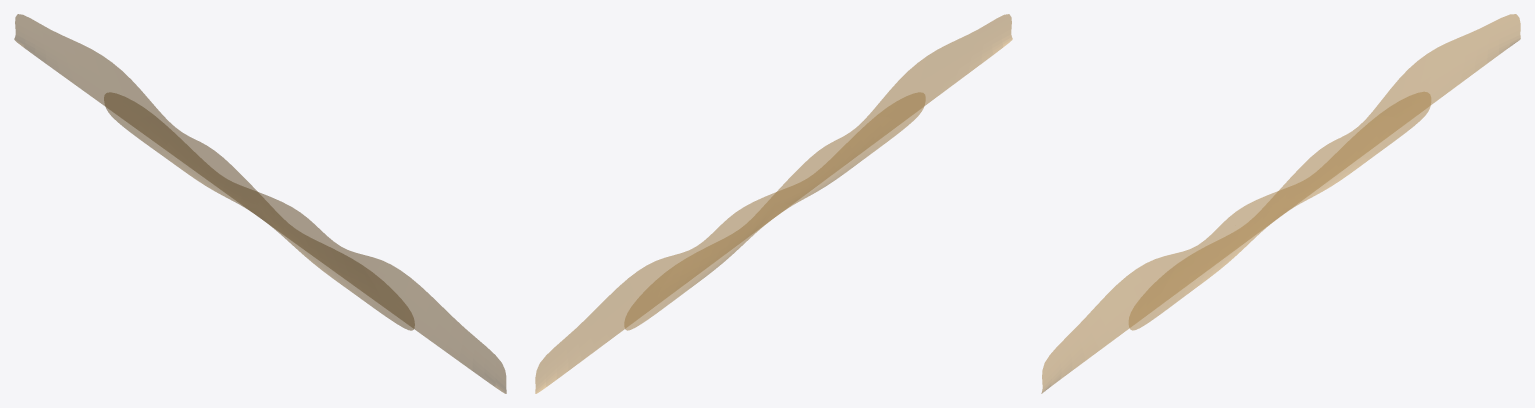
Rendered from decierto fortal.fbx.
3 views of the same model, side by side, from view 1: azimuth 30°, elevation 25°; view 2: azimuth 150°, elevation 25°; view 3: azimuth 330°, elevation 25° (orthographic).
Visible parts, largest first — view 1: Plano.008_LOD0; view 2: Plano.008_LOD0; view 3: Plano.008_LOD0.
Boxes of the visible parts, x1=… form: Plano.008_LOD0: x1=14, y1=14, x2=506, y2=393; Plano.008_LOD0: x1=535, y1=14, x2=1012, y2=393; Plano.008_LOD0: x1=1041, y1=14, x2=1520, y2=393.
Bounding box in the file's own units: 26.75 × 180 × 2609.
